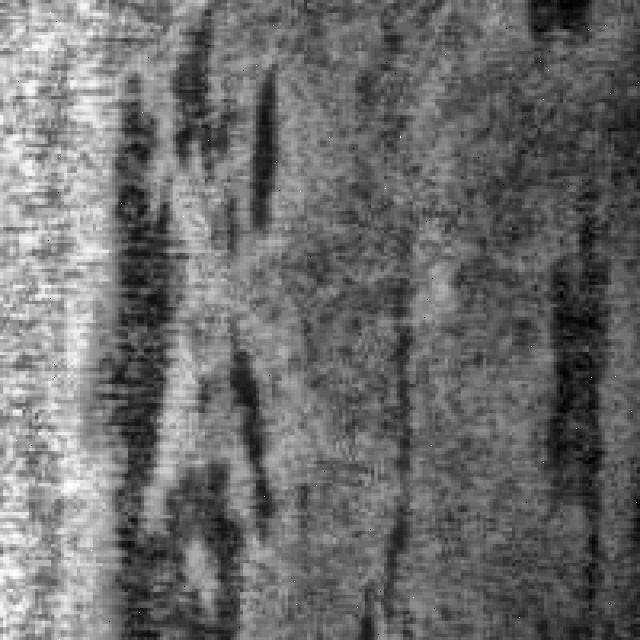Patches: (70, 29, 276, 634), (522, 211, 618, 605), (346, 310, 420, 630), (237, 48, 294, 237)
